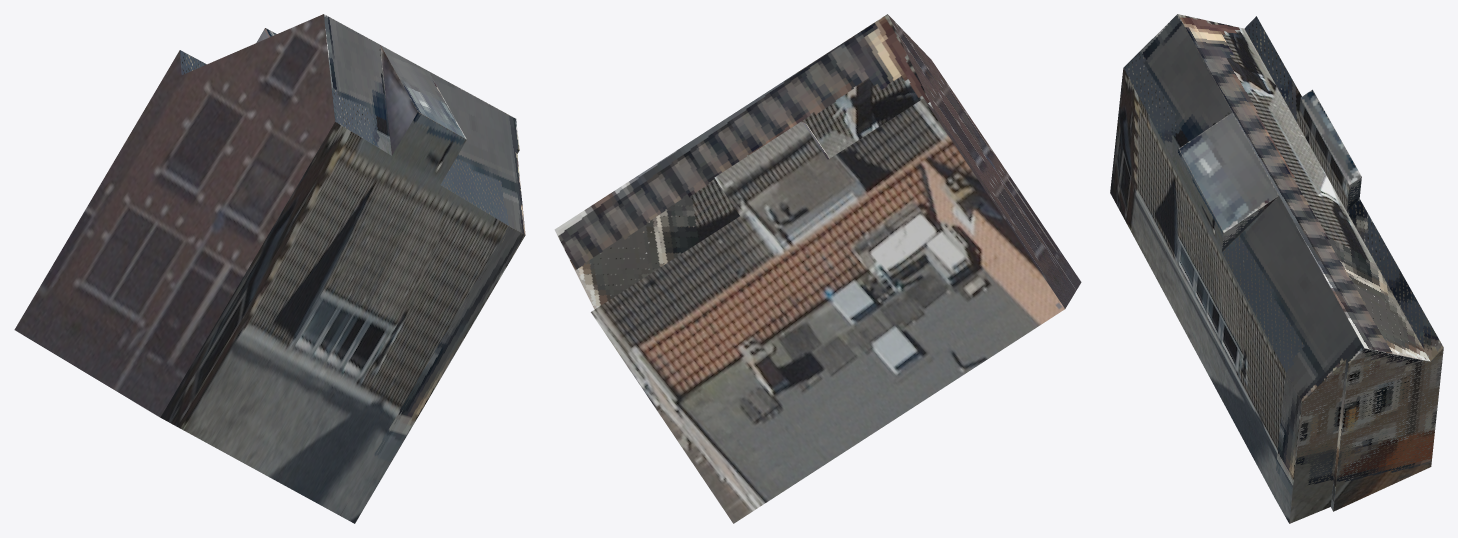
3 renders of one model, left to right at view 1: azimuth 30°, elevation 25°; view 2: azimuth 150°, elevation 25°; view 3: azimuth 270°, elevation 25°, orthographic. The views are drawn at different scales.
Parts seen in each view (by area): view 1: BAG_0599100000656925 (×4); view 2: BAG_0599100000656925 (×2); view 3: BAG_0599100000656925 (×5).
Boxes of the visible parts, x1=… form: BAG_0599100000656925 (×4): x1=14, y1=14, x2=525, y2=523; BAG_0599100000656925 (×2): x1=554, y1=14, x2=1081, y2=523; BAG_0599100000656925 (×5): x1=1110, y1=14, x2=1443, y2=523.
Bounding box in the file's own units: 16.16 × 15.67 × 10.08.
Materials: 1 (1 with a texture image).
